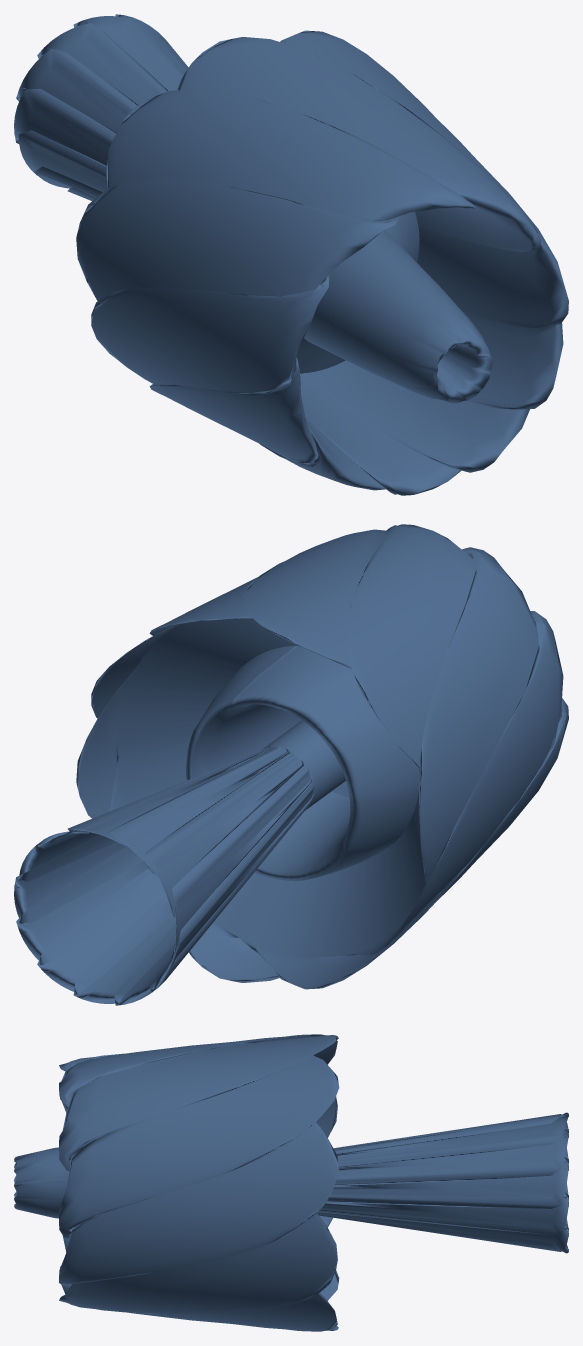
Rendered from bacteriophage_ar_universal.glb.
3 views of the same model, one above another, from view 1: azimuth 30°, elevation 25°; view 2: azimuth 150°, elevation 25°; view 3: azimuth 270°, elevation 25° (orthographic). The views are drawn at different scales.
Parts seen in each view (by area): view 1: bacteriophage_ar; view 2: bacteriophage_ar; view 3: bacteriophage_ar.
Part boxes in pixels (bbox=[...]): bacteriophage_ar: bbox=[14, 14, 568, 495]; bacteriophage_ar: bbox=[14, 524, 568, 1005]; bacteriophage_ar: bbox=[14, 1034, 568, 1331].
Bounding box in the file's own units: 0.5384 × 0.542 × 1.
